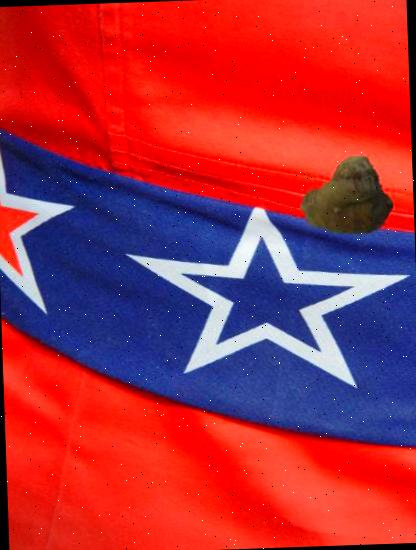Ginger: (298, 148, 394, 245)
